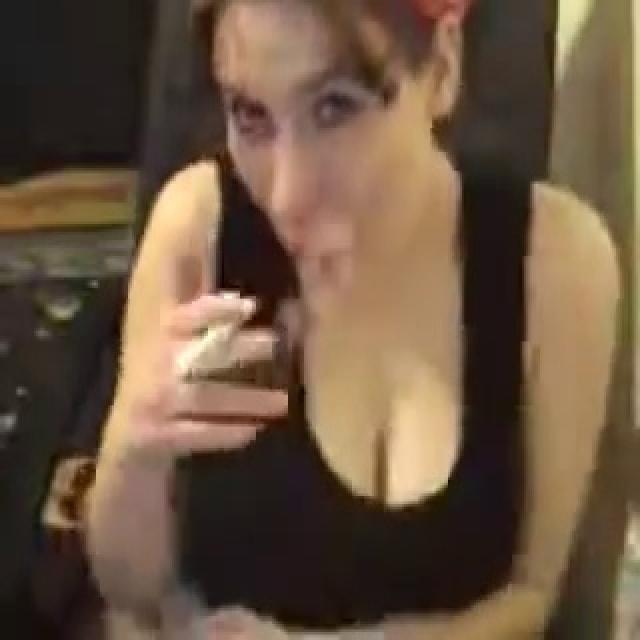Cigarette: (174, 321, 241, 377)
Hand: (140, 242, 292, 458)
Mouth: (287, 242, 358, 278)
